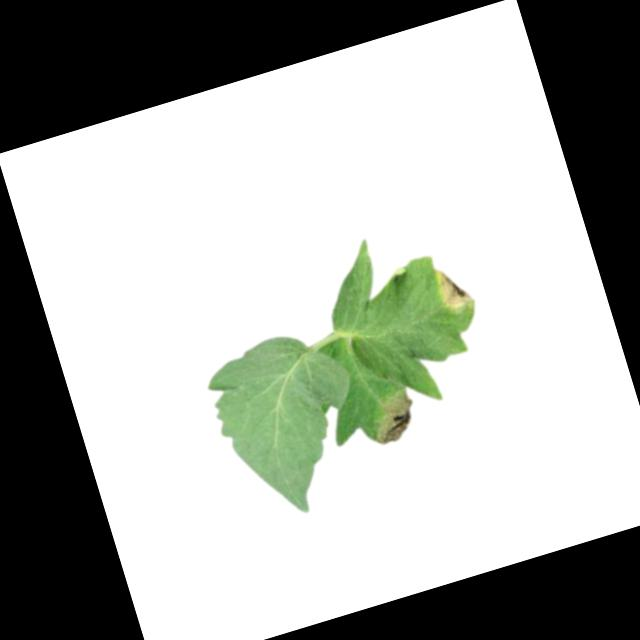Late_blight: (364, 385, 422, 447), (431, 260, 479, 316)
healthy: (198, 319, 383, 530)
